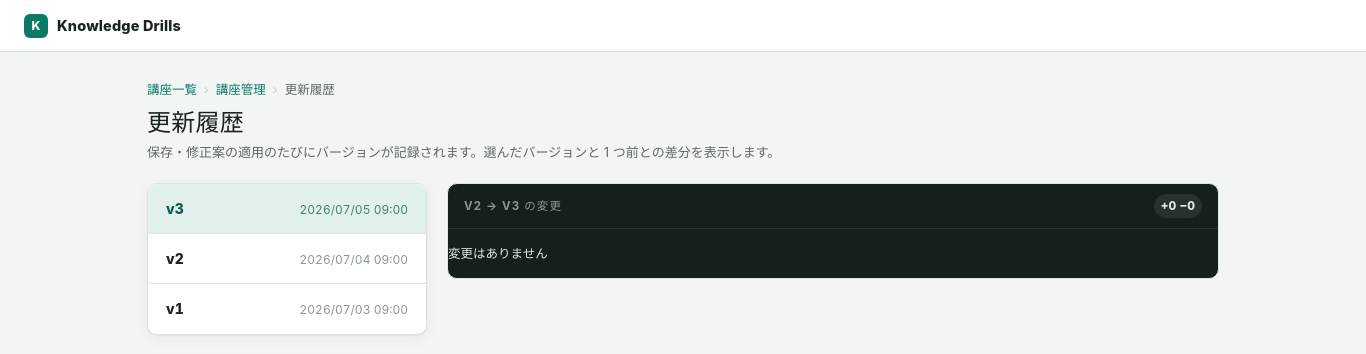
Test: CourseHistoryPage › shows first-version message when v1 is selected
Click the button "v1 2026/07/03 09:00".
click(354, 310)  # box [148,284,426,334]
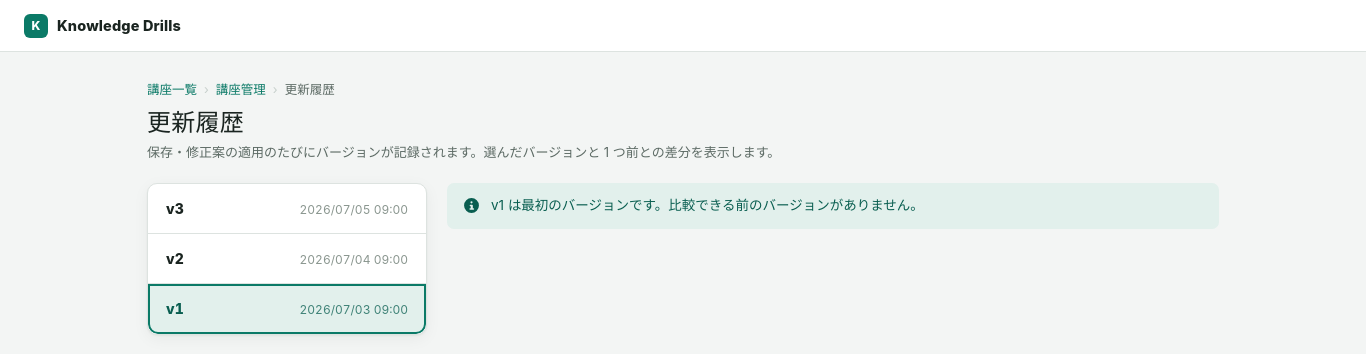
Expected: the text "v1 は最初のバージョンです。比較できる前のバージョンがありません。" is shown, [491,195,924,217]
